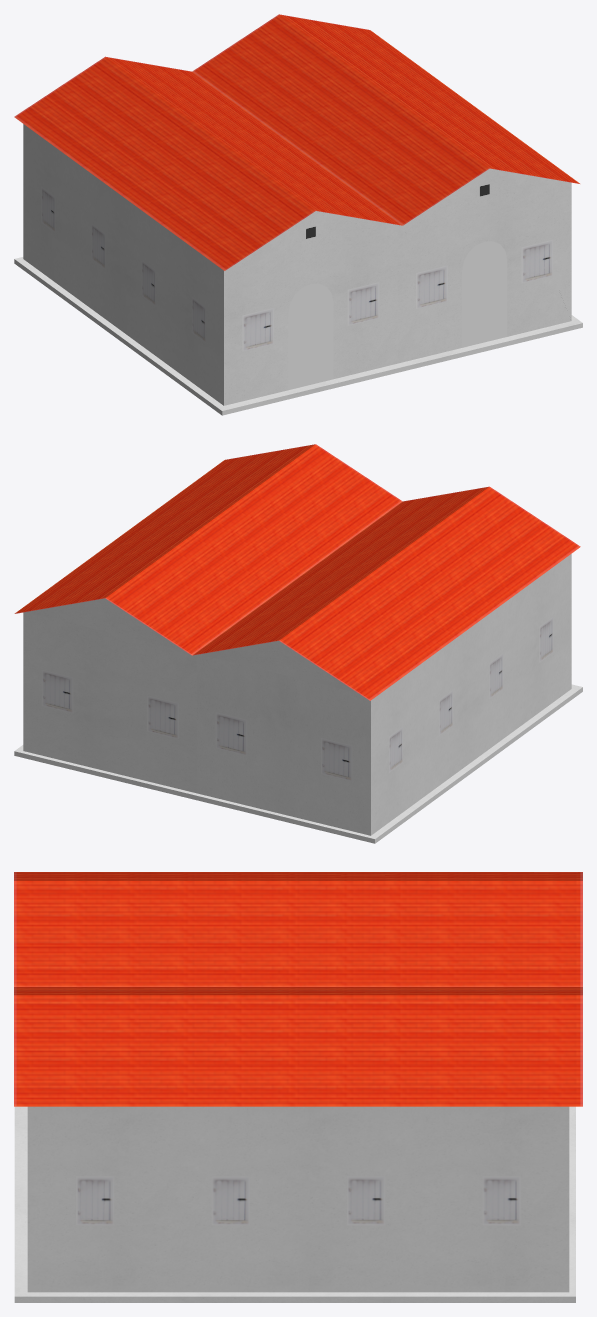
File: House_Semi_D_3_LOD_1.fbx
The picture shows the model from 3 angles, top to bottom: view 1: azimuth 30°, elevation 25°; view 2: azimuth 150°, elevation 25°; view 3: azimuth 270°, elevation 25°; orthographic projection. The views are drawn at different scales.
Parts seen in each view (by area): view 1: Cube; view 2: Cube; view 3: Cube.
Boxes of the visible parts, x1=… form: Cube: x1=14, y1=14, x2=582, y2=415; Cube: x1=14, y1=444, x2=582, y2=843; Cube: x1=14, y1=872, x2=582, y2=1302.
Size of the model in its own units: 831 by 400 by 840.
